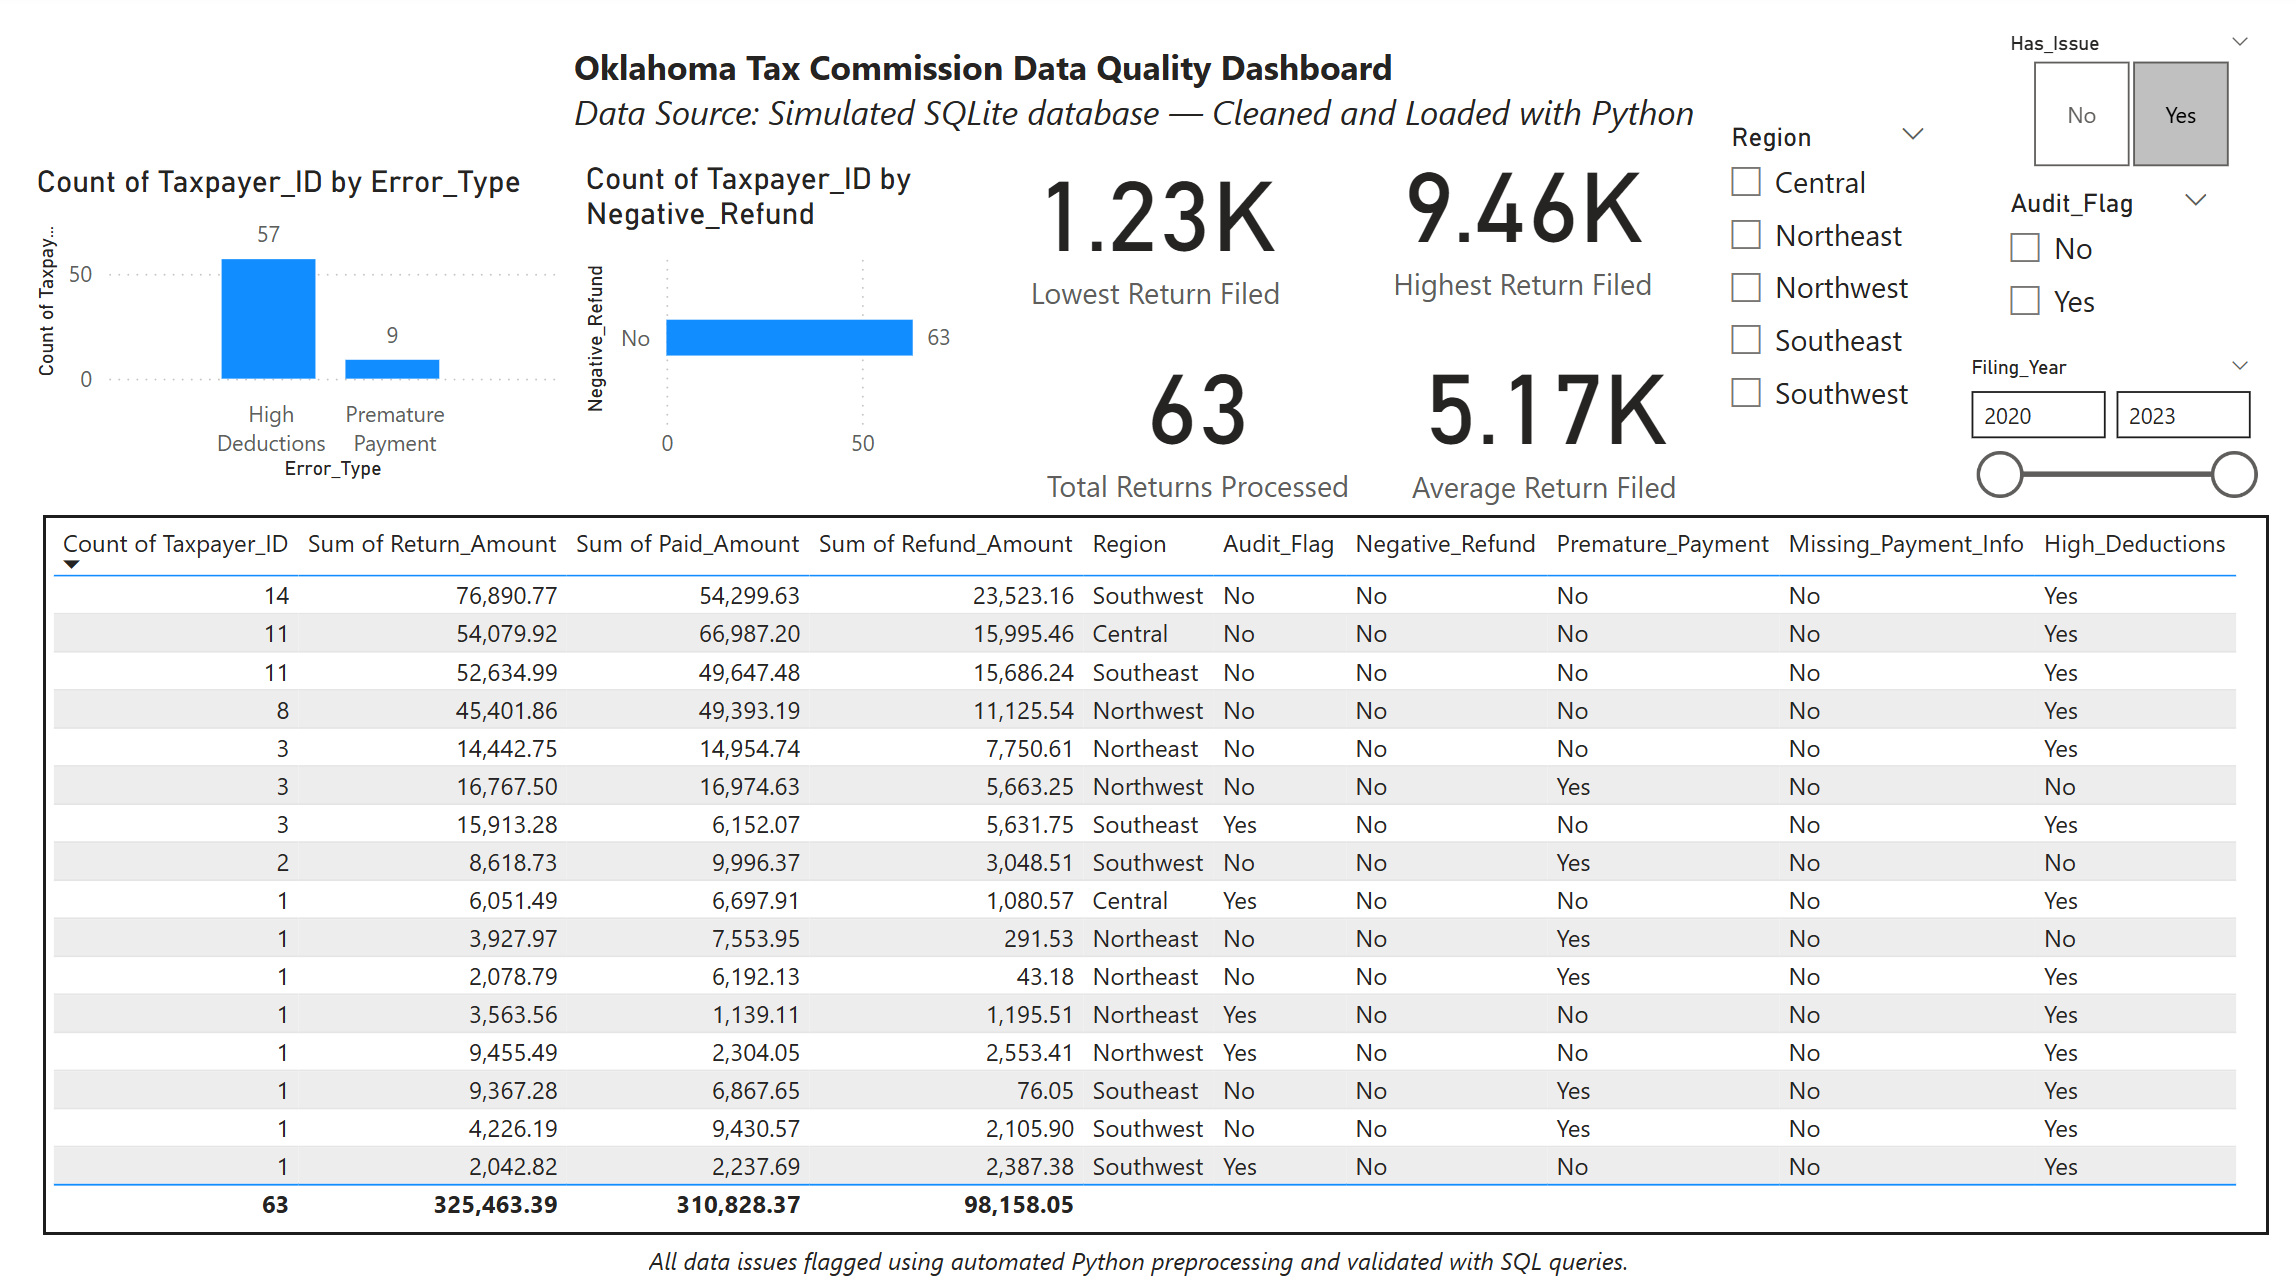

This screenshot's page, from the dashboard's own definition file:
{"tool":"powerbi","page":{"name":"Page 1","canvas":[1280,720],"ordinal":0},"visuals":[{"type":"card","fields":{"Values":["CountNonNull(tax_returns.Taxpayer_ID)"]},"box":[567.7,182.1,201.9,109.2],"z":0},{"type":"card","fields":{"Values":["Min(tax_returns.Return_Amount)"]},"box":[546,80,198,102],"z":1000},{"type":"card","fields":{"Values":["Max(tax_returns.Return_Amount)"]},"box":[744,70,206,112],"z":2000},{"type":"card","fields":{"Values":["Avg(tax_returns.Return_Amount)"]},"box":[770,182,180,110],"z":3000},{"type":"tableEx","fields":{"Values":["CountNonNull(tax_returns.Taxpayer_ID)","Sum(tax_returns.Return_Amount)","Sum(tax_returns.Paid_Amount)","Sum(tax_returns.Refund_Amount)","tax_returns.Region","tax_returns.Audit_Flag","tax_returns.Negative_Refund","tax_returns.Premature_Payment","tax_returns.Missing_Payment_Info","tax_returns.High_Deductions"]},"box":[31.4,291.3,1228.1,397.2],"z":4000},{"type":"clusteredBarChart","fields":{"Category":["tax_returns.Negative_Refund"],"Y":["CountNonNull(tax_returns.Taxpayer_ID)"]},"box":[326,96,220,174],"z":5000},{"type":"slicer","fields":{"Values":["tax_returns.Region"]},"box":[950,70,132,182],"z":6000},{"type":"slicer","fields":{"Values":["tax_returns.Audit_Flag"]},"box":[1104,105.9,134.1,92.7],"z":7000},{"type":"slicer","fields":{"Values":["tax_returns.Filing_Year"]},"box":[1082.5,198.6,178.8,92.7],"z":8000},{"type":"textbox","box":[319.4,26.5,642.2,66.2],"z":9000},{"type":"clusteredColumnChart","fields":{"Category":["Error_Flags.Error_Type"],"Y":["CountNonNull(Error_Flags.Taxpayer_ID)"]},"box":[23.2,97.7,296.3,178.8],"z":10000},{"type":"slicer","fields":{"Values":["tax_returns.Has_Issue"]},"box":[1104,19.9,157.2,86.1],"z":11000},{"type":"textbox","box":[360.8,688.6,569.4,31.4],"z":12000}]}

Visuals, with their boxes in screenshot pixels (x1, y1, x2, y2), scaled from the page's 1280x720 canvas onto the 2296x1281 screenshot:
card - CountNonNull(tax_returns.Taxpayer_ID): pyautogui.locateOnScreen(1018, 324, 1380, 518)
card - Min(tax_returns.Return_Amount): pyautogui.locateOnScreen(979, 142, 1335, 324)
card - Max(tax_returns.Return_Amount): pyautogui.locateOnScreen(1335, 125, 1704, 324)
card - Avg(tax_returns.Return_Amount): pyautogui.locateOnScreen(1381, 324, 1704, 520)
tableEx - CountNonNull(tax_returns.Taxpayer_ID) x Sum(tax_returns.Return_Amount): pyautogui.locateOnScreen(56, 518, 2259, 1225)
clusteredBarChart - tax_returns.Negative_Refund x CountNonNull(tax_returns.Taxpayer_ID): pyautogui.locateOnScreen(585, 171, 979, 480)
slicer - tax_returns.Region: pyautogui.locateOnScreen(1704, 125, 1941, 448)
slicer - tax_returns.Audit_Flag: pyautogui.locateOnScreen(1980, 188, 2221, 353)
slicer - tax_returns.Filing_Year: pyautogui.locateOnScreen(1942, 353, 2262, 518)
textbox: pyautogui.locateOnScreen(573, 47, 1725, 165)
clusteredColumnChart - Error_Flags.Error_Type x CountNonNull(Error_Flags.Taxpayer_ID): pyautogui.locateOnScreen(42, 174, 573, 492)
slicer - tax_returns.Has_Issue: pyautogui.locateOnScreen(1980, 35, 2262, 189)
textbox: pyautogui.locateOnScreen(647, 1225, 1669, 1280)
